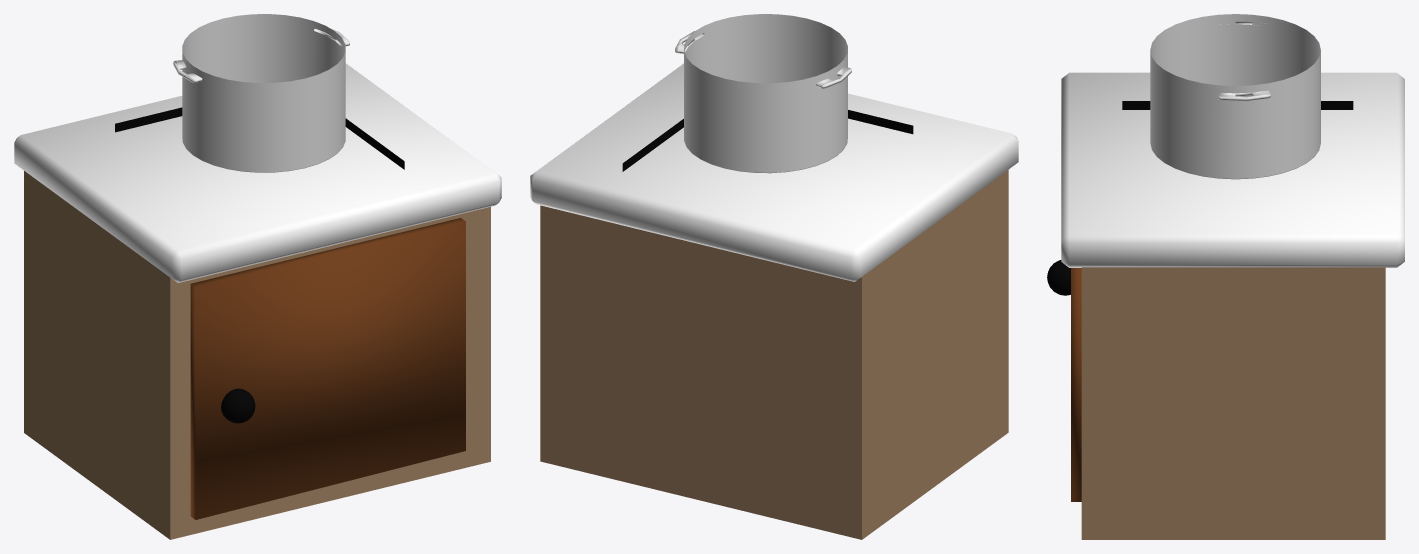
Rendered from cube_right_pot.glb.
The picture shows the model from 3 angles, left to right: view 1: azimuth 30°, elevation 25°; view 2: azimuth 150°, elevation 25°; view 3: azimuth 270°, elevation 25°; orthographic projection. The views are drawn at different scales.
Parts seen in each view (by area): view 1: Plane.002; view 2: Plane.002; view 3: Plane.002.
Part boxes in pixels (bbox=[...]): Plane.002: bbox=[14, 14, 501, 539]; Plane.002: bbox=[530, 14, 1018, 539]; Plane.002: bbox=[1047, 14, 1404, 539].
Size of the model in its own units: 2.61 by 2.99 by 2.35.
